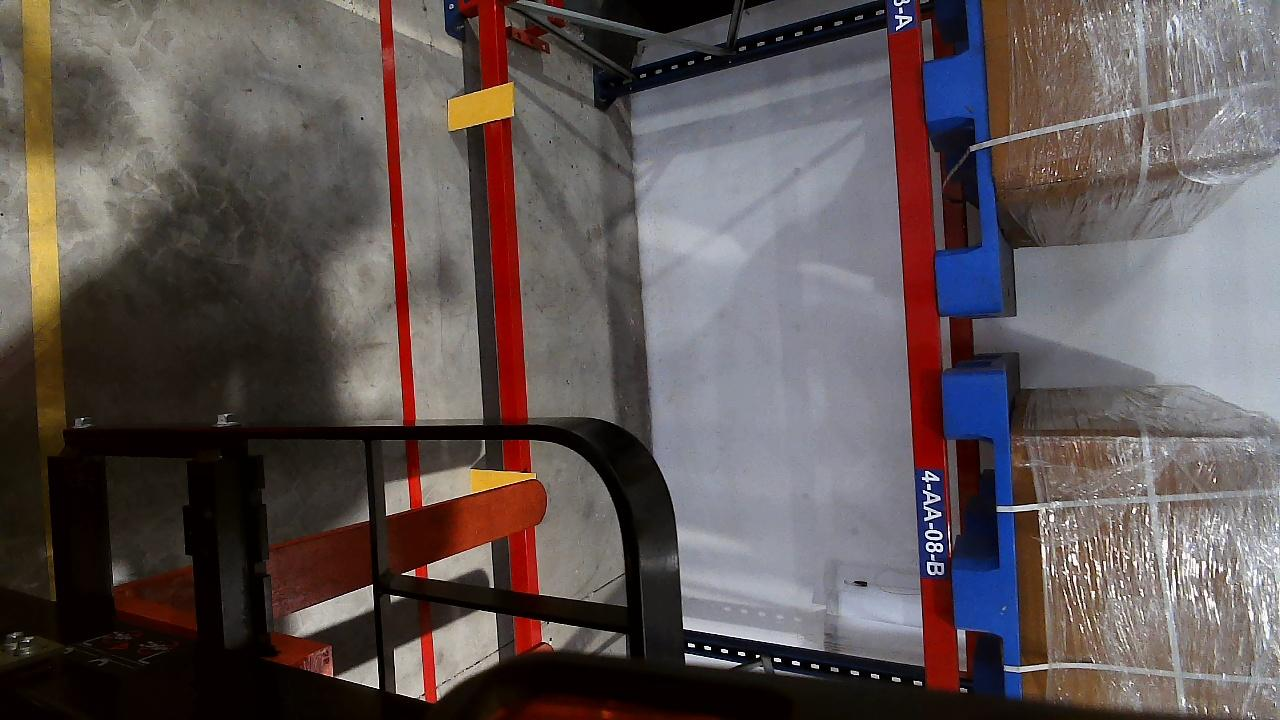h_rack: (882, 0, 953, 596), (470, 3, 525, 421)
orange_strip: (447, 83, 514, 129)
red_line: (378, 0, 418, 467)
small_pallet: (917, 0, 1007, 309), (942, 370, 1024, 680)
yellow_line: (17, 0, 67, 451)
